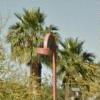Palm tree: (11, 5, 50, 95)
